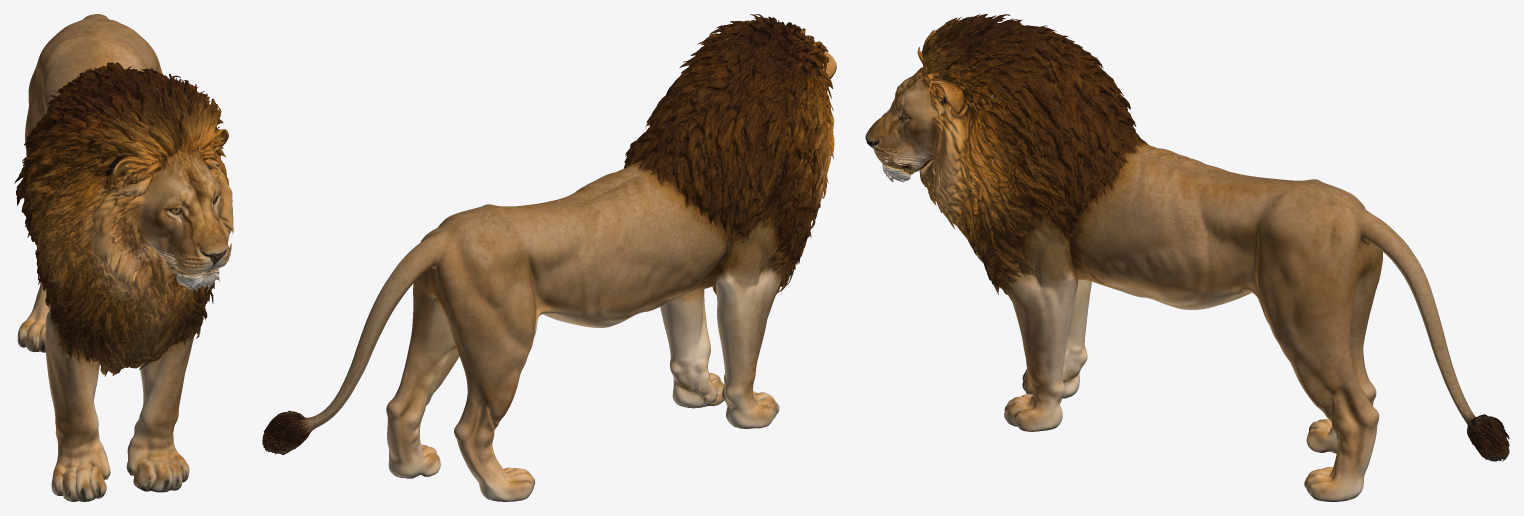
The model's file is lion.glb.
3 renders of one model, left to right at view 1: azimuth 30°, elevation 25°; view 2: azimuth 150°, elevation 25°; view 3: azimuth 270°, elevation 25°, orthographic. The views are drawn at different scales.
Visible parts, largest first — view 1: lion; view 2: lion; view 3: lion.
Boxes of the visible parts, box(x1,y1,x2,y2) form: lion: box(14, 14, 233, 501); lion: box(262, 14, 836, 501); lion: box(865, 14, 1509, 501).
Size of the model in its own units: 1.65 by 1.77 by 2.7.
1 material, 1 textured.
